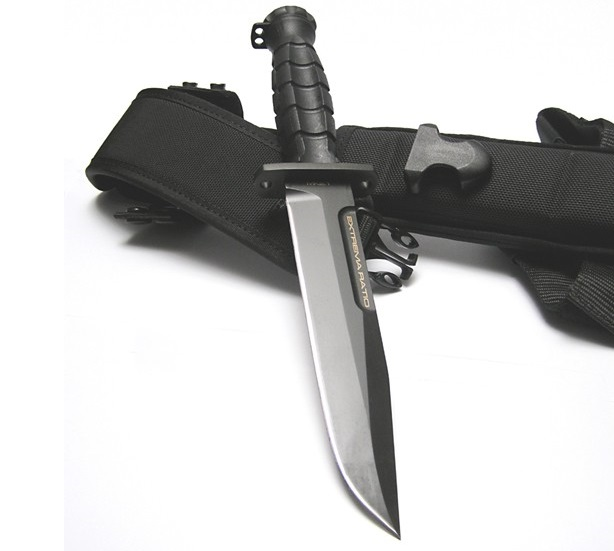knife: (282, 173, 408, 548)
